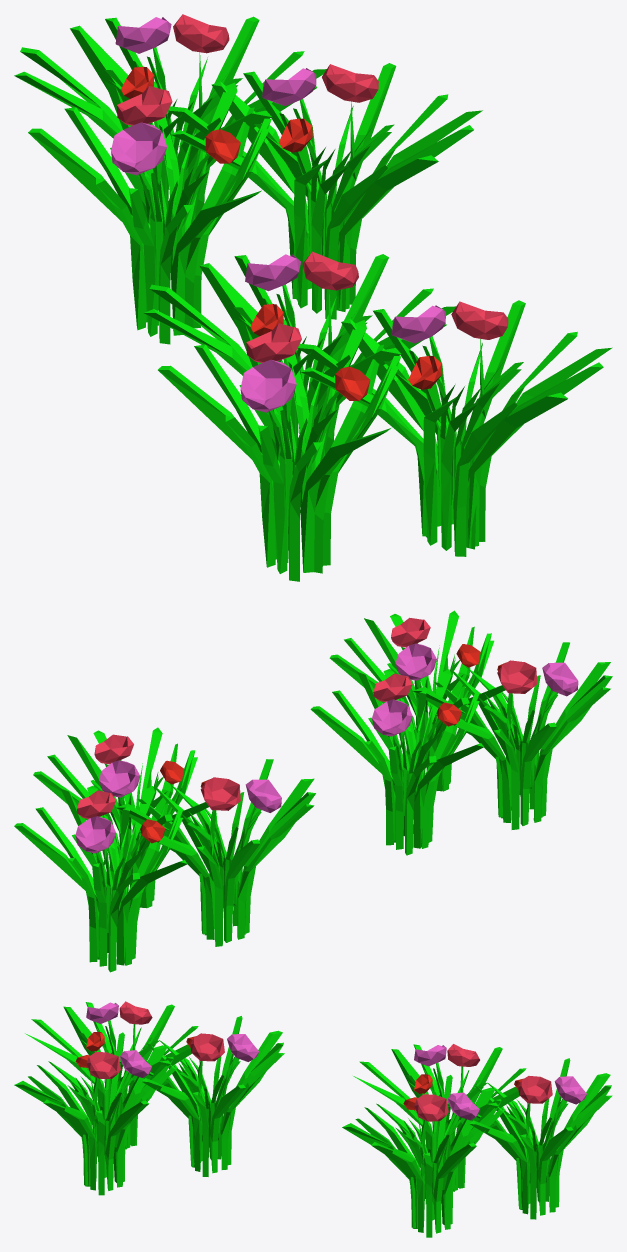
Rendered from cvece 5.fbx.
3 views of the same model, one above another, from view 1: azimuth 30°, elevation 25°; view 2: azimuth 150°, elevation 25°; view 3: azimuth 270°, elevation 25° (orthographic). The views are drawn at different scales.
Visible parts, largest first — view 1: Icosphere.081; view 2: Icosphere.081; view 3: Icosphere.081.
Part boxes in pixels (x1,y1,x2,y2): Icosphere.081: (14,14,612,581); Icosphere.081: (14,610,612,972); Icosphere.081: (14,1001,612,1237).
Bounding box in the file's own units: 227 × 98.97 × 384.
